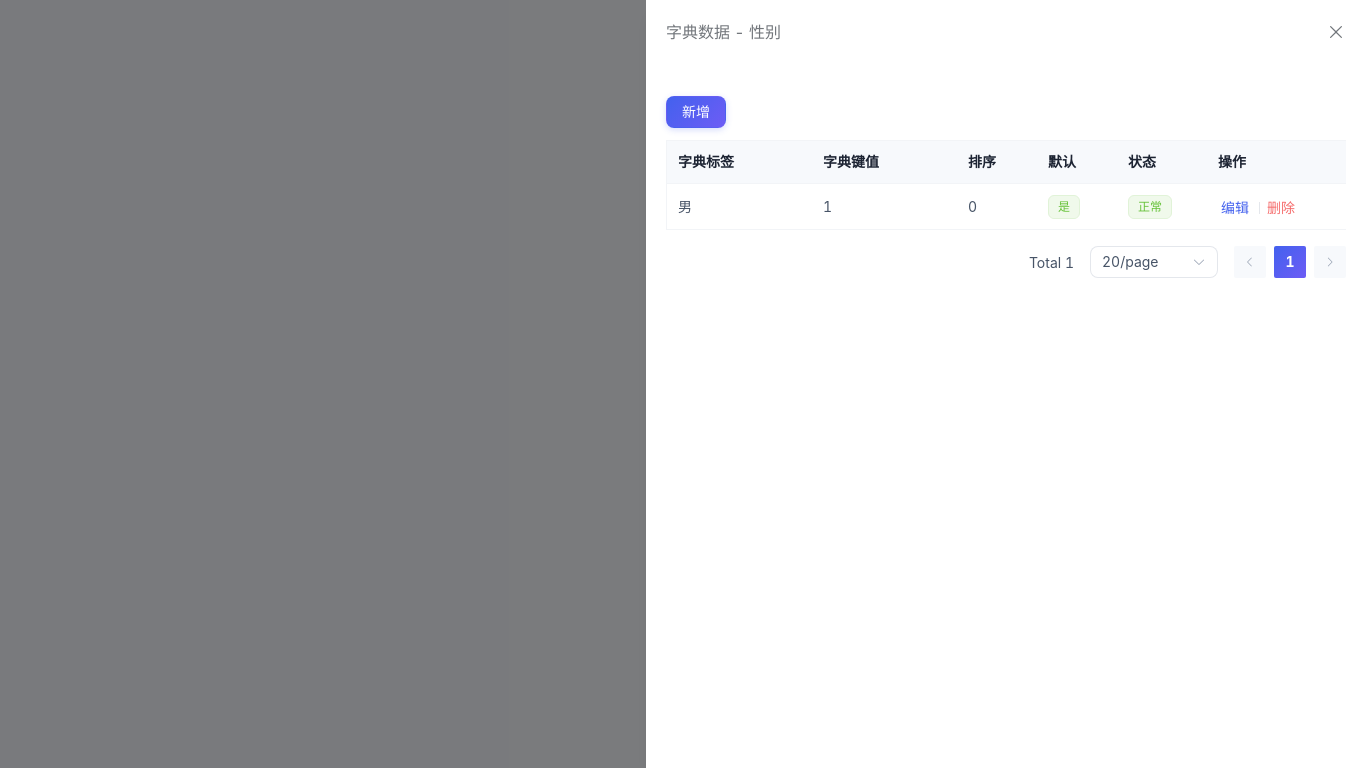
it: DictDataDialog（字典数据抽屉） › 点新增 → 打开数据表单对话框
Click the button "新增": (696, 112) [666,96,726,128]
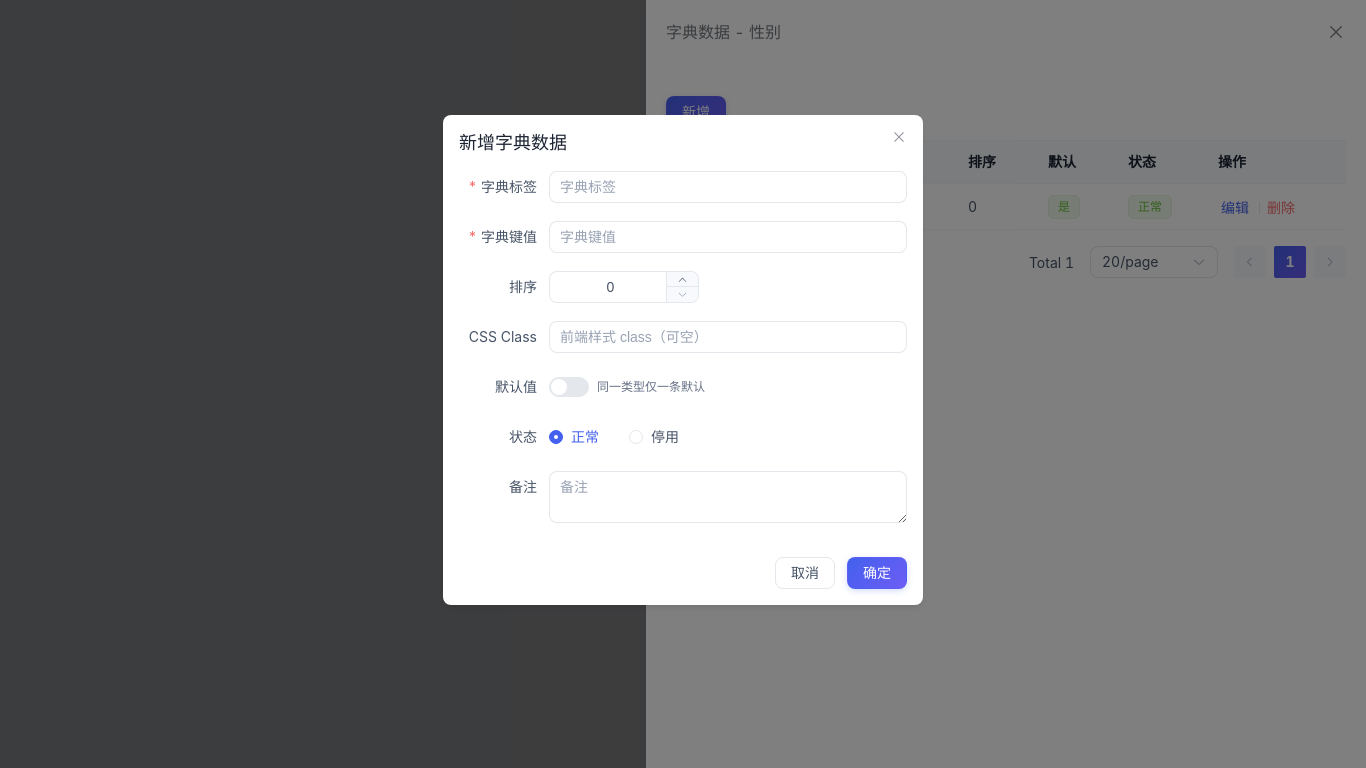
Check: the text "新增字典数据" is shown, box [459,132,567,153]
